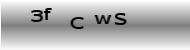3: (28, 9, 45, 22)
C: (68, 16, 86, 29)
S: (113, 12, 128, 26)
f: (44, 6, 53, 22)
w: (94, 13, 111, 25)
